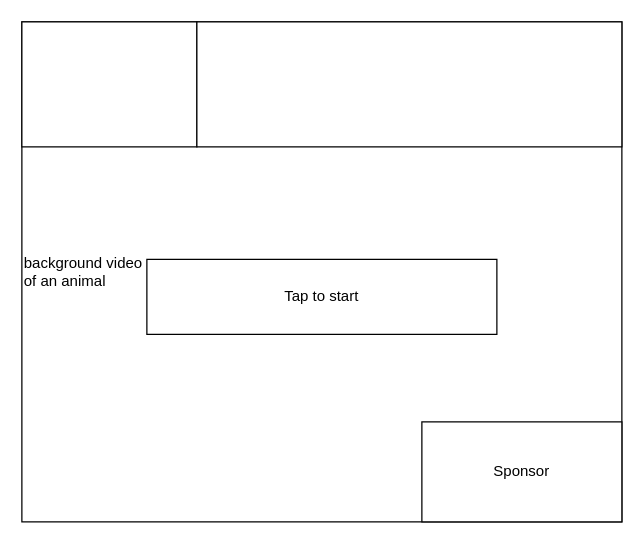
Some shapes in this 644 by 544 pixel diagram are drawn without their labels. The centre of each missing label's shape, as x and y in pixels:
"Company name" goes at [409,84].
"Logo" goes at [109,84].
